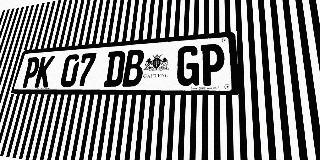0: (59, 54, 81, 87)
7: (75, 53, 97, 87)
B: (122, 49, 145, 87)
D: (103, 50, 126, 87)
G: (176, 45, 200, 86)
K: (34, 56, 55, 87)
P: (200, 43, 225, 86), (21, 57, 41, 88)
